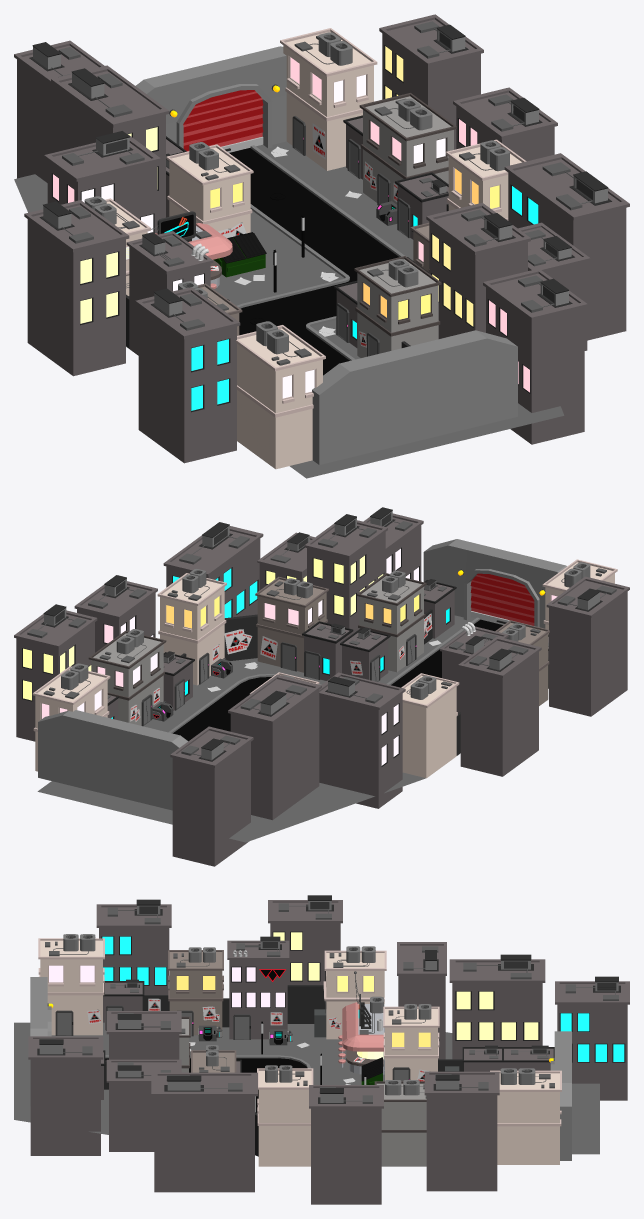
Rendered from RoboKillerVREnvironment.fbx.
3 renders of one model, top to bottom at view 1: azimuth 30°, elevation 25°; view 2: azimuth 150°, elevation 25°; view 3: azimuth 270°, elevation 25°, orthographic. The views are drawn at different scales.
Parts seen in each view (by area): view 1: Cylinder.024, transformer.002, transformer.001, ground, road.001, transformer.008, transformer.006, Cylinder.023, ac2.003, transformer.007, ac2.007, transformer.009 (+18 smaller); view 2: Cylinder.023, transformer.002, transformer.001, transformer.003, transformer.011, transformer.009, Cylinder.024, ground, transformer.007, transformer.004, transformer.006, ac2.005 (+17 smaller); view 3: transformer.006, transformer.004, transformer.008, transformer.005, transformer.009, ground, transformer.011, ac2.007, transformer.001, ac2.005, ac2.003, transformer.002 (+21 smaller).
Boxes of the visible parts, x1,y1,x2,y2 form: Cylinder.024: [312, 330, 517, 464]; transformer.002: [24, 200, 129, 376]; transformer.001: [135, 287, 240, 463]; ground: [14, 141, 564, 478]; road.001: [229, 145, 404, 375]; transformer.008: [483, 268, 587, 444]; transformer.006: [504, 153, 629, 340]; Cylinder.023: [136, 46, 286, 152]; ac2.003: [236, 321, 325, 469]; transformer.007: [426, 202, 530, 338]; ac2.007: [280, 28, 377, 170]; transformer.009: [51, 65, 169, 230]; Cylinder.023: [38, 710, 187, 810]; transformer.002: [458, 636, 541, 776]; transformer.001: [546, 576, 629, 716]; transformer.003: [319, 672, 405, 808]; transformer.011: [170, 726, 253, 866]; transformer.009: [228, 674, 321, 820]; Cylinder.024: [423, 539, 566, 628]; ground: [37, 615, 475, 842]; transformer.007: [304, 514, 387, 634]; transformer.004: [14, 604, 97, 741]; transformer.006: [163, 522, 263, 617]; ac2.005: [157, 569, 226, 685]; transformer.006: [151, 1072, 257, 1192]; transformer.004: [424, 1071, 499, 1191]; transformer.008: [28, 1036, 103, 1155]; transformer.005: [309, 1085, 383, 1204]; transformer.009: [449, 954, 545, 1068]; ground: [14, 1022, 599, 1154]; transformer.011: [555, 976, 629, 1100]; ac2.007: [490, 1068, 561, 1164]; transformer.001: [96, 899, 171, 1022]; ac2.005: [257, 1065, 313, 1166]; ac2.003: [38, 934, 104, 1035]; transformer.002: [268, 895, 342, 984].
Size of the model in its own units: 2347 by 744 by 3167.
